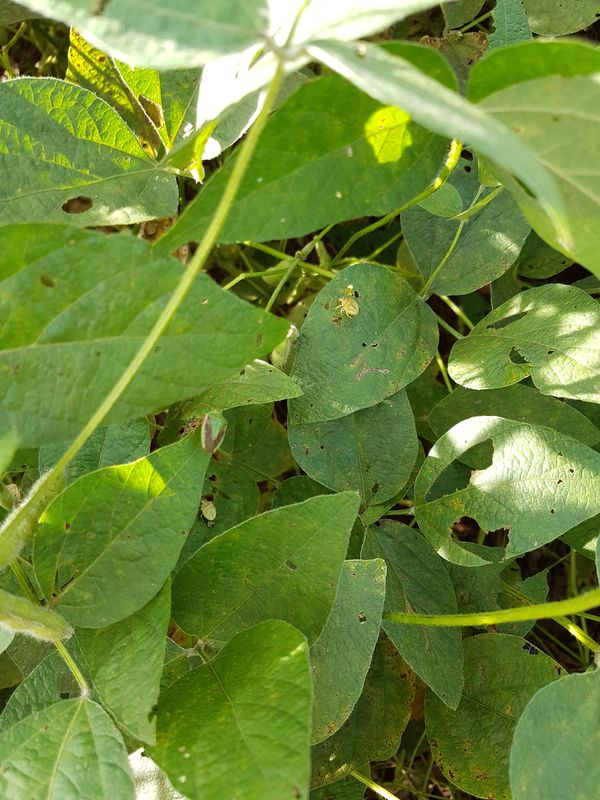Edessa_meditabunda: (189, 403, 233, 462)
Euschistus_heros_ninfa: (191, 491, 223, 531), (329, 290, 364, 325)
